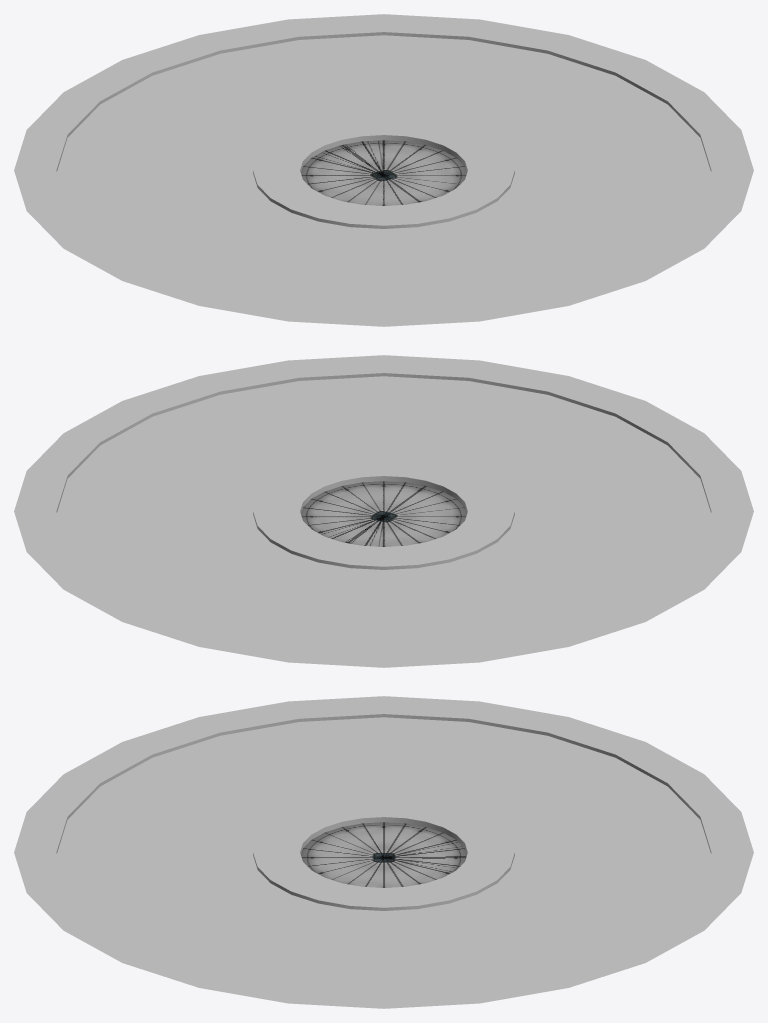
Rendered from Apollo_25mFlatAdapter.dae.
3 views of the same model, one above another, from view 1: azimuth 30°, elevation 25°; view 2: azimuth 150°, elevation 25°; view 3: azimuth 270°, elevation 25° (orthographic).
Parts seen in each view (by area): view 1: Apollo_FlatAdapter1_Apollo_Adapter_15m_polySurface85, EndCaps; view 2: Apollo_FlatAdapter1_Apollo_Adapter_15m_polySurface85, EndCaps; view 3: Apollo_FlatAdapter1_Apollo_Adapter_15m_polySurface85, EndCaps.
Part boxes in pixels (x1,y1,x2,y2): Apollo_FlatAdapter1_Apollo_Adapter_15m_polySurface85: [14, 14, 753, 326]; EndCaps: [301, 140, 466, 205]; Apollo_FlatAdapter1_Apollo_Adapter_15m_polySurface85: [14, 355, 753, 667]; EndCaps: [301, 481, 466, 546]; Apollo_FlatAdapter1_Apollo_Adapter_15m_polySurface85: [14, 696, 753, 1008]; EndCaps: [301, 822, 466, 887].
Size of what is drawn, in the model's own units: 2.5 by 0.0929 by 2.5.
